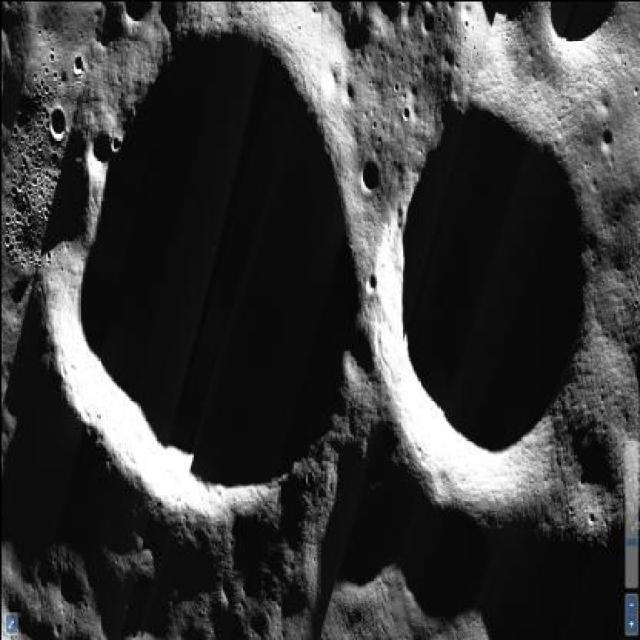crater: (38, 1, 364, 514), (377, 94, 595, 517), (340, 326, 375, 385), (358, 157, 380, 192), (46, 105, 65, 138), (598, 123, 614, 155)
